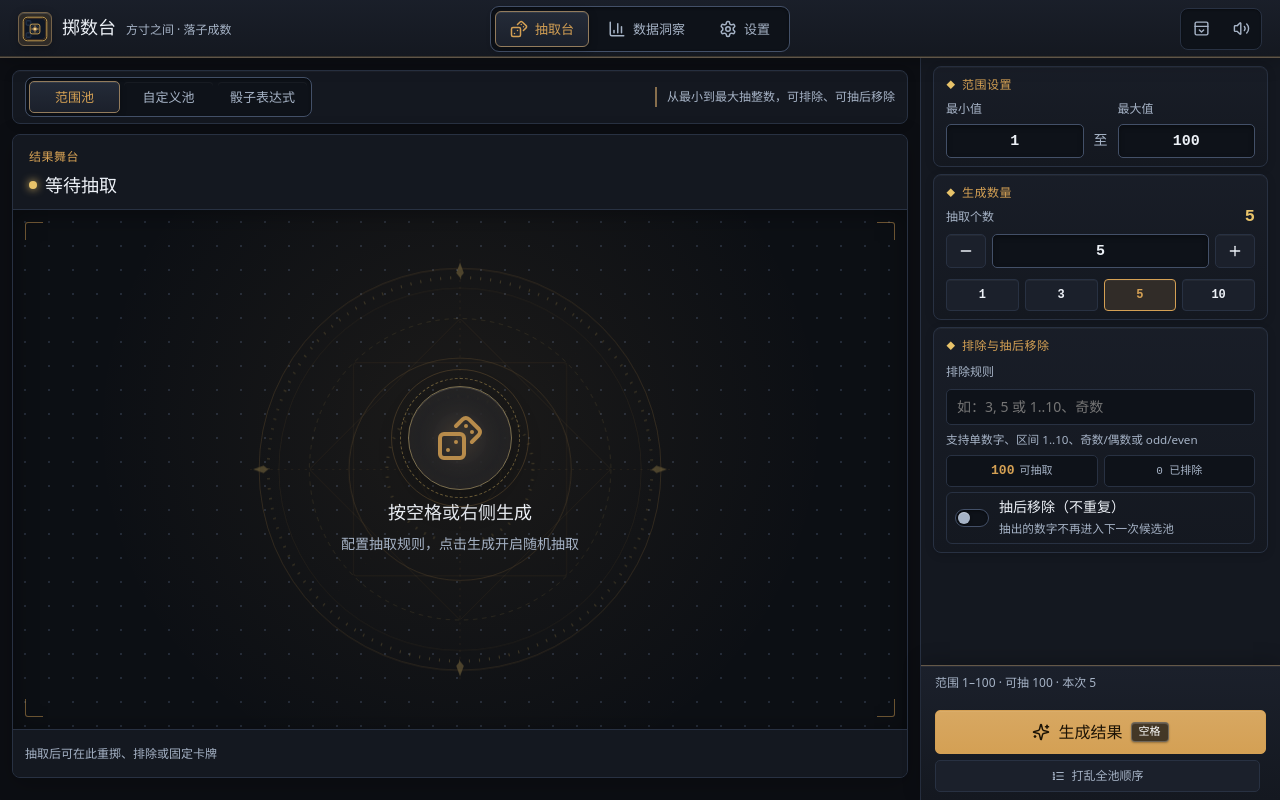
Test: application shell › opens custom pool editing from the roll inspector
Step 1. Click the button "自定义池" → (168, 97), box [123,81,214,113]
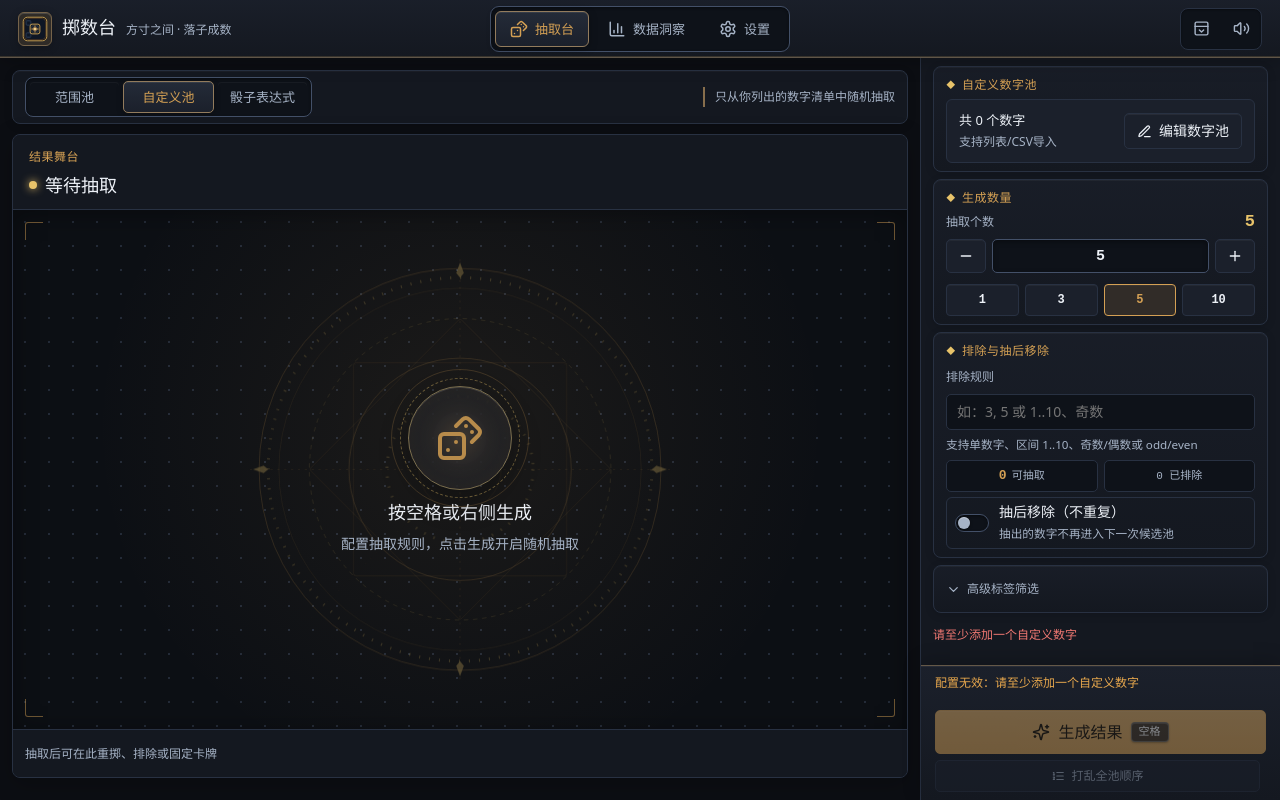
Result: the button "编辑数字池" is shown
Step 2. Click the button "编辑数字池" → (1183, 131), box [1124,113,1242,149]
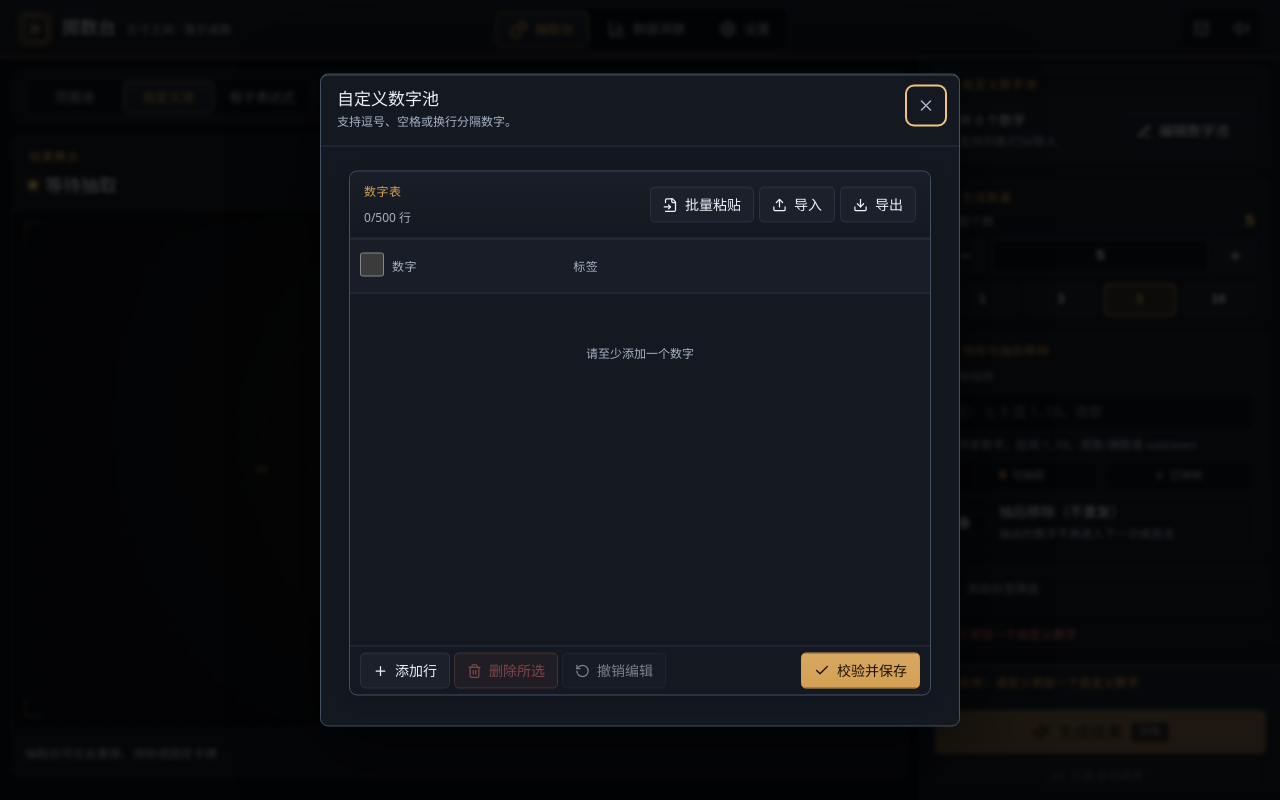
Result: the heading "自定义数字池" is shown at [337,86,439,110]
